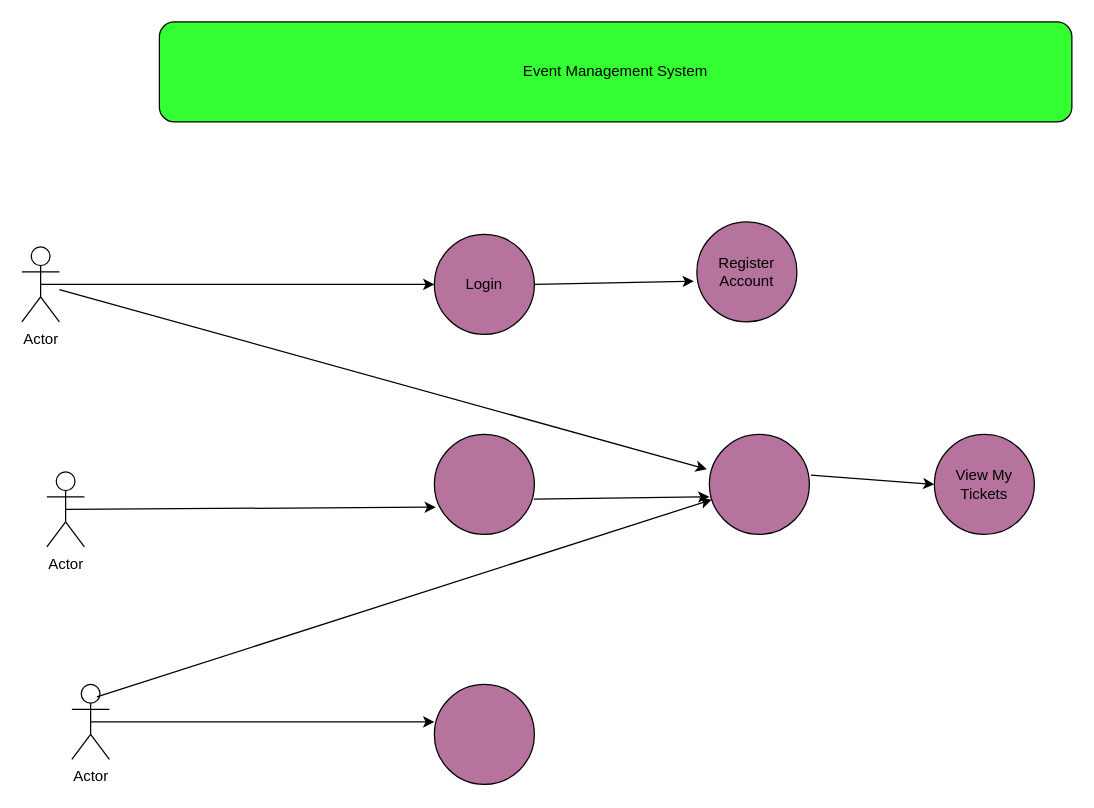
The diagram is 1094 pixels wide and 808 high, and some of its shapes have lost their labels. The centre of each missing label's shape, as x and y in pixels:
"Manage Evets" belongs at point (483, 733).
"Ticket Booking and Payment" belongs at point (483, 483).
"View Upcomig Events" belongs at point (758, 483).
